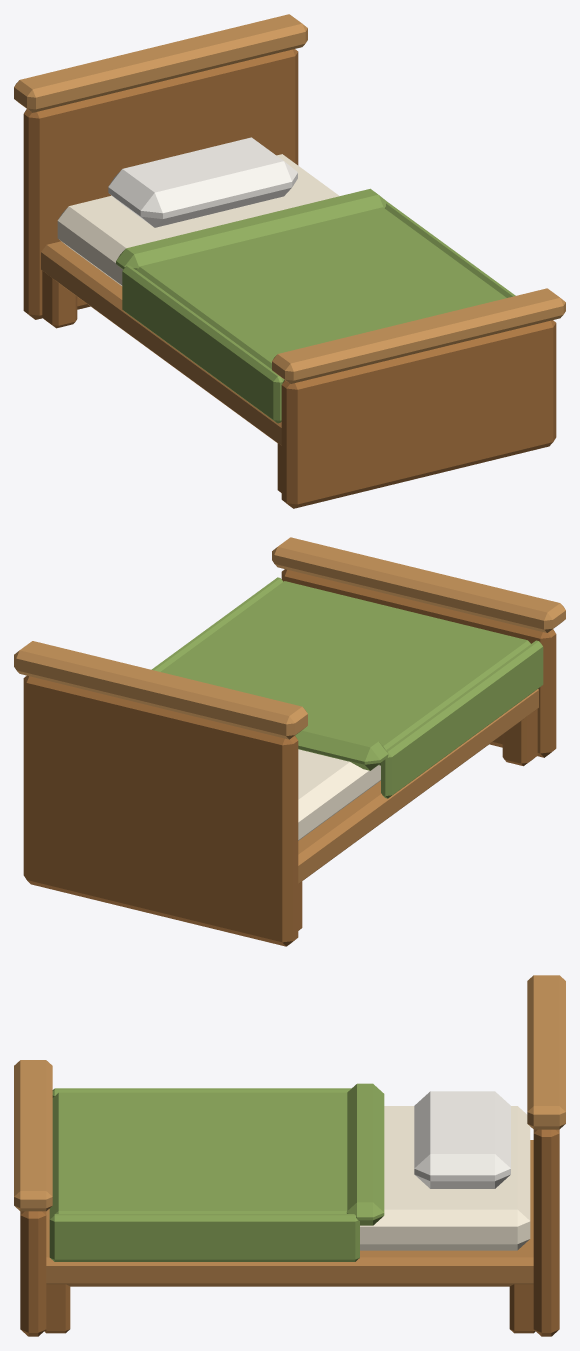
The model's file is bed_single.glb.
The picture shows the model from 3 angles, top to bottom: view 1: azimuth 30°, elevation 25°; view 2: azimuth 150°, elevation 25°; view 3: azimuth 270°, elevation 25°; orthographic projection.
Parts seen in each view (by area): view 1: bed_single; view 2: bed_single; view 3: bed_single.
Part boxes in pixels (x1,y1,x2,y2): bed_single: [14, 14, 565, 508]; bed_single: [14, 537, 565, 946]; bed_single: [14, 975, 565, 1336].
Bounding box in the file's own units: 1 × 0.8 × 1.71.
